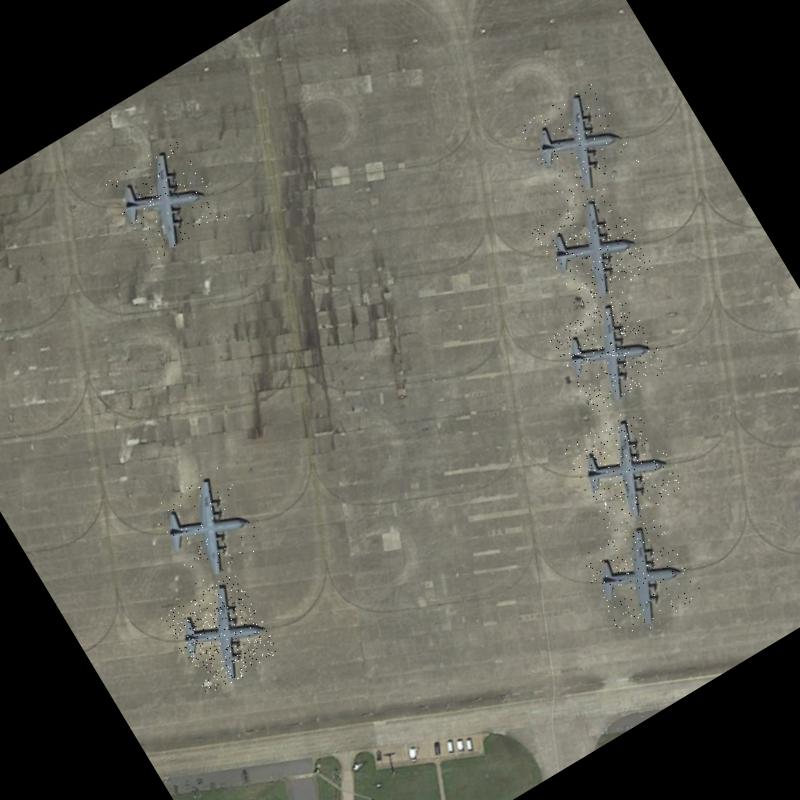A2: (560, 403, 688, 534), (576, 512, 704, 642), (530, 184, 655, 311), (102, 136, 226, 263), (546, 290, 670, 414), (148, 462, 270, 588), (160, 571, 282, 697), (518, 80, 640, 205)
